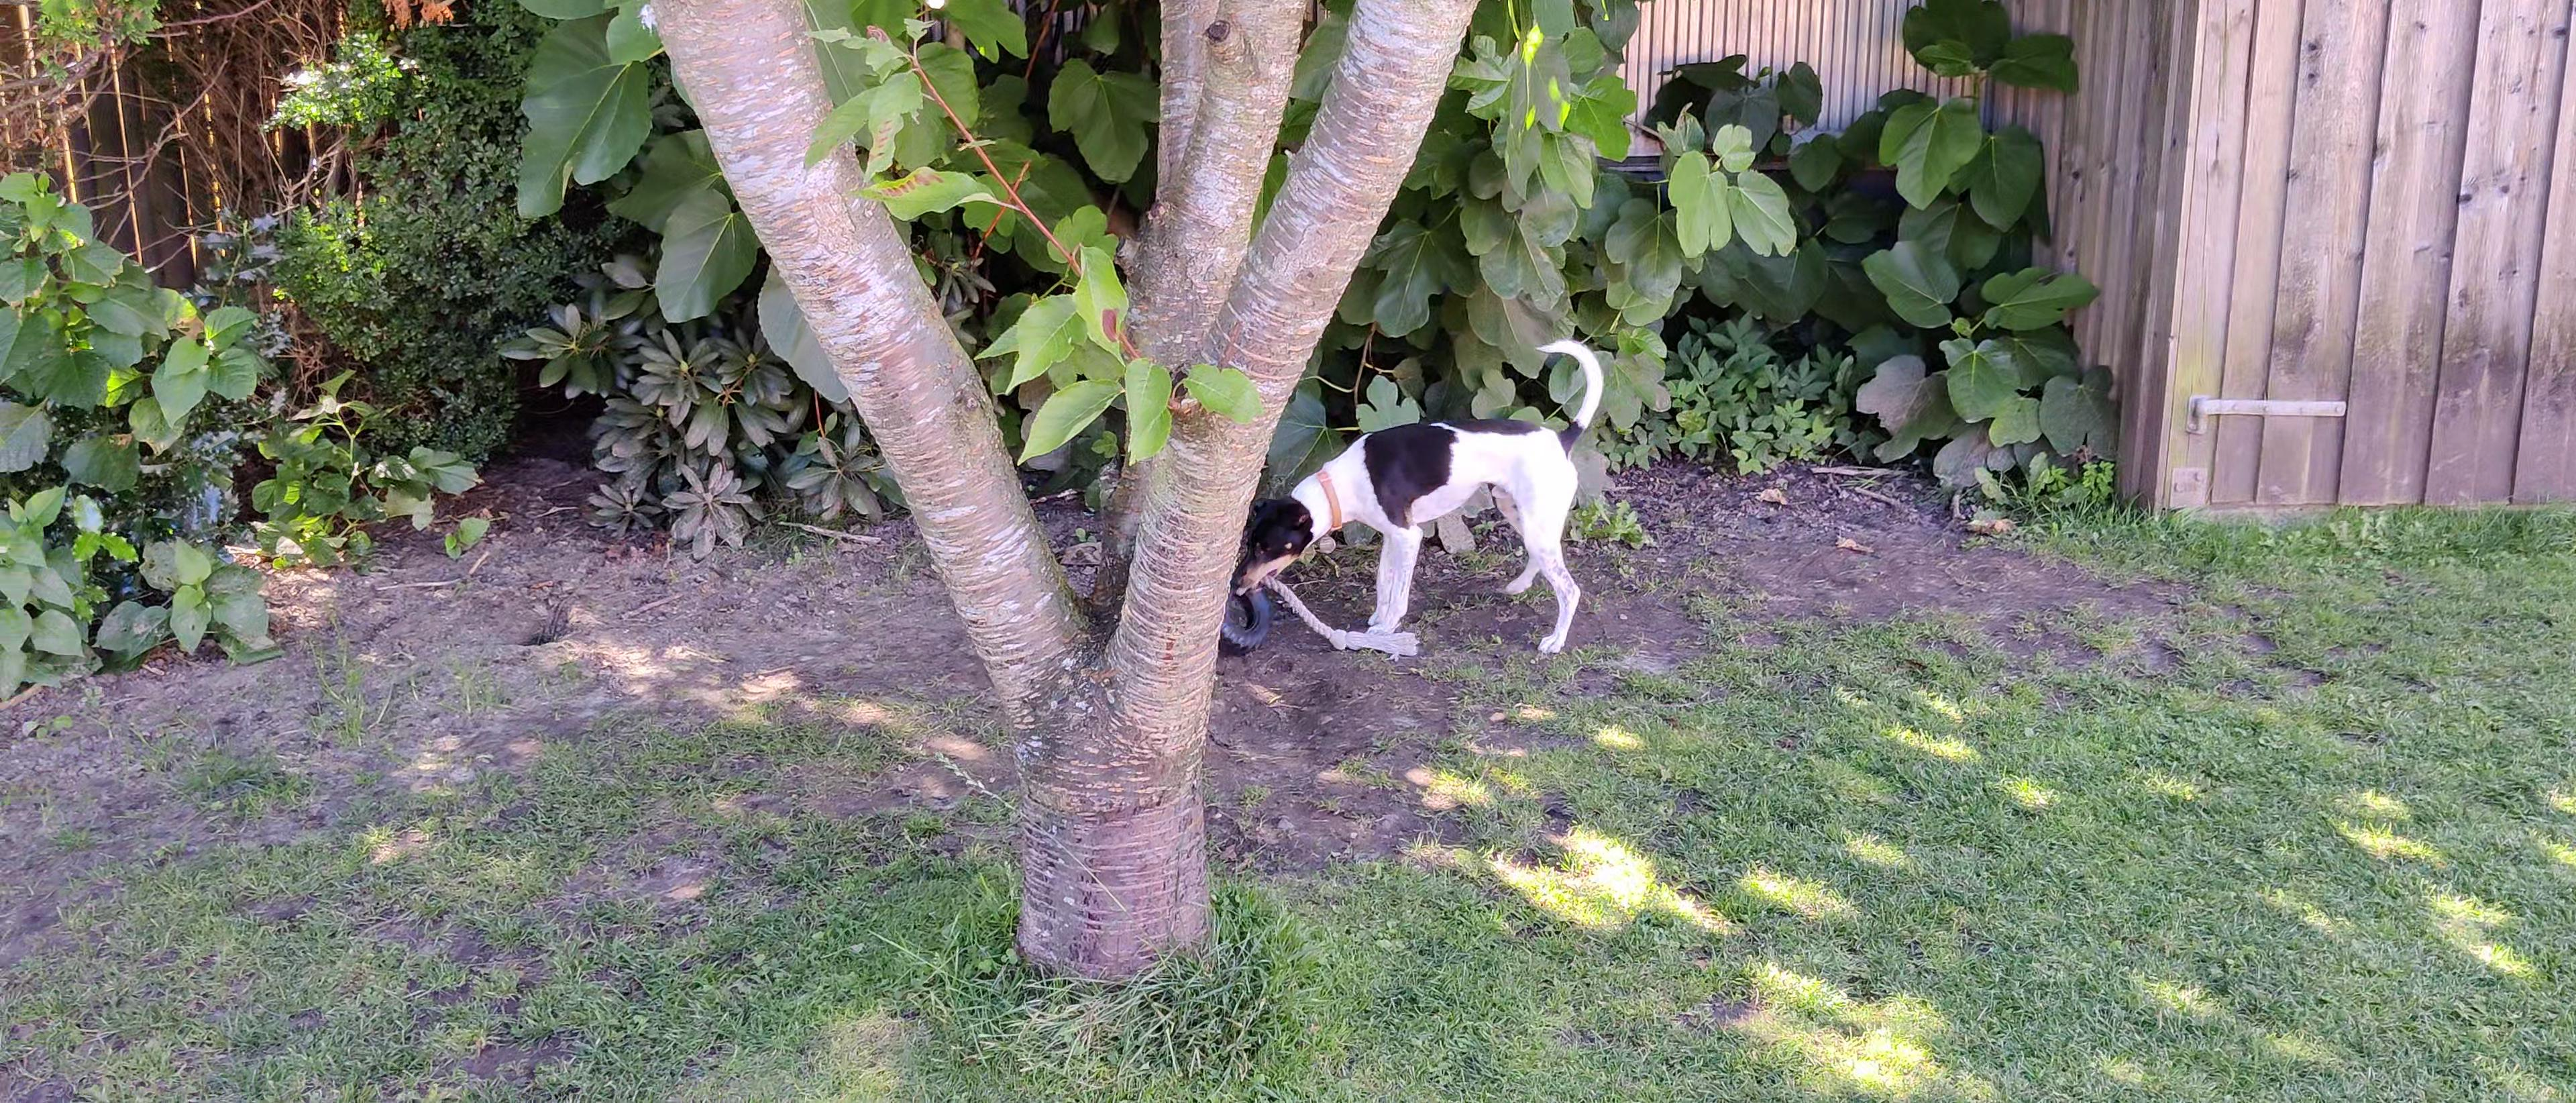Dog: (1226, 337, 1608, 658)
